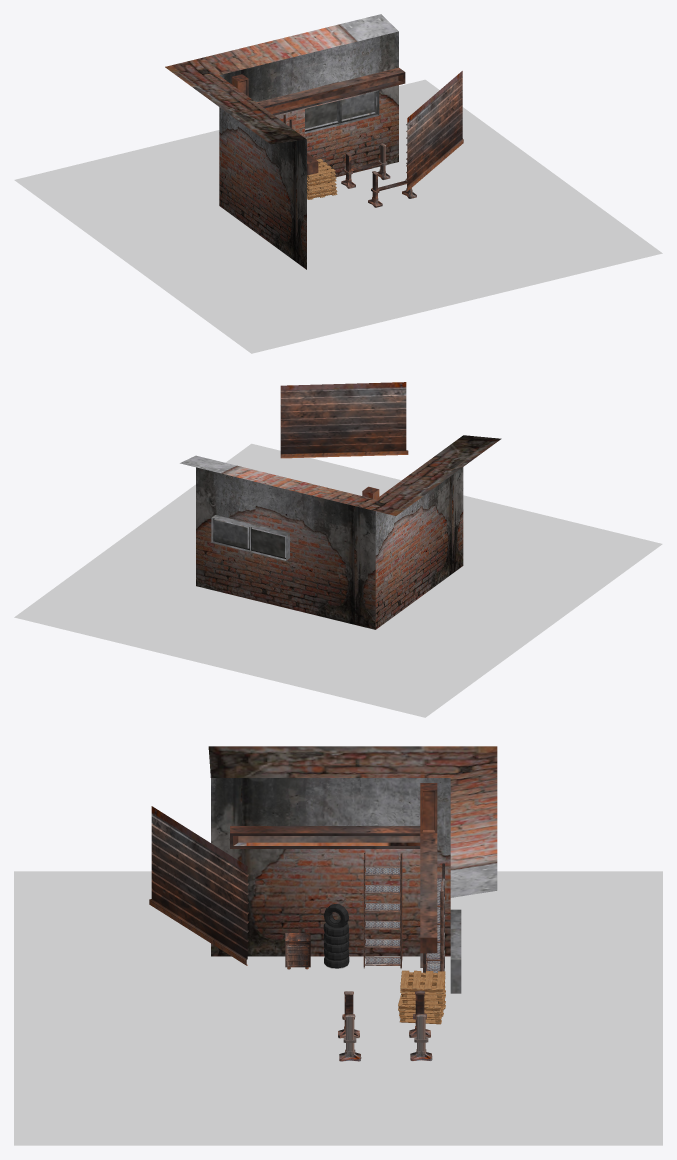
The model's file is Garaje_Player2.fbx.
3 views of the same model, one above another, from view 1: azimuth 30°, elevation 25°; view 2: azimuth 150°, elevation 25°; view 3: azimuth 270°, elevation 25° (orthographic). The views are drawn at different scales.
Visible parts, largest first — view 1: suelo.001, Pared.001, garage_berja.001, Bigas.001, soporte.001, pales01.001; view 2: suelo.001, Pared.001, garage_berja.001; view 3: suelo.001, Pared.001, garage_berja.001, Bigas.001, estanteria02.001, pales01.001, soporte.001, ruedas.001, Estanteria01.001, cajonera.001.
Part boxes in pixels (x1,y1,x2,y2): suelo.001: (14,79,662,353); Pared.001: (165,14,398,269); garage_berja.001: (406,71,463,191); Bigas.001: (231,67,405,175); soporte.001: (341,143,416,207); pales01.001: (307,159,337,199); suelo.001: (14,443,662,717); Pared.001: (180,435,501,629); garage_berja.001: (280,382,408,458); suelo.001: (14,871,662,1145); Pared.001: (208,746,497,993); garage_berja.001: (149,806,248,965); Bigas.001: (230,783,437,967); estanteria02.001: (363,853,402,968); pales01.001: (398,970,445,1024); soporte.001: (338,990,432,1061); ruedas.001: (323,904,349,968); Estanteria01.001: (423,863,444,972); cajonera.001: (285,933,310,969).
Bounding box in the file's own units: 4831 × 1677 × 4831.
